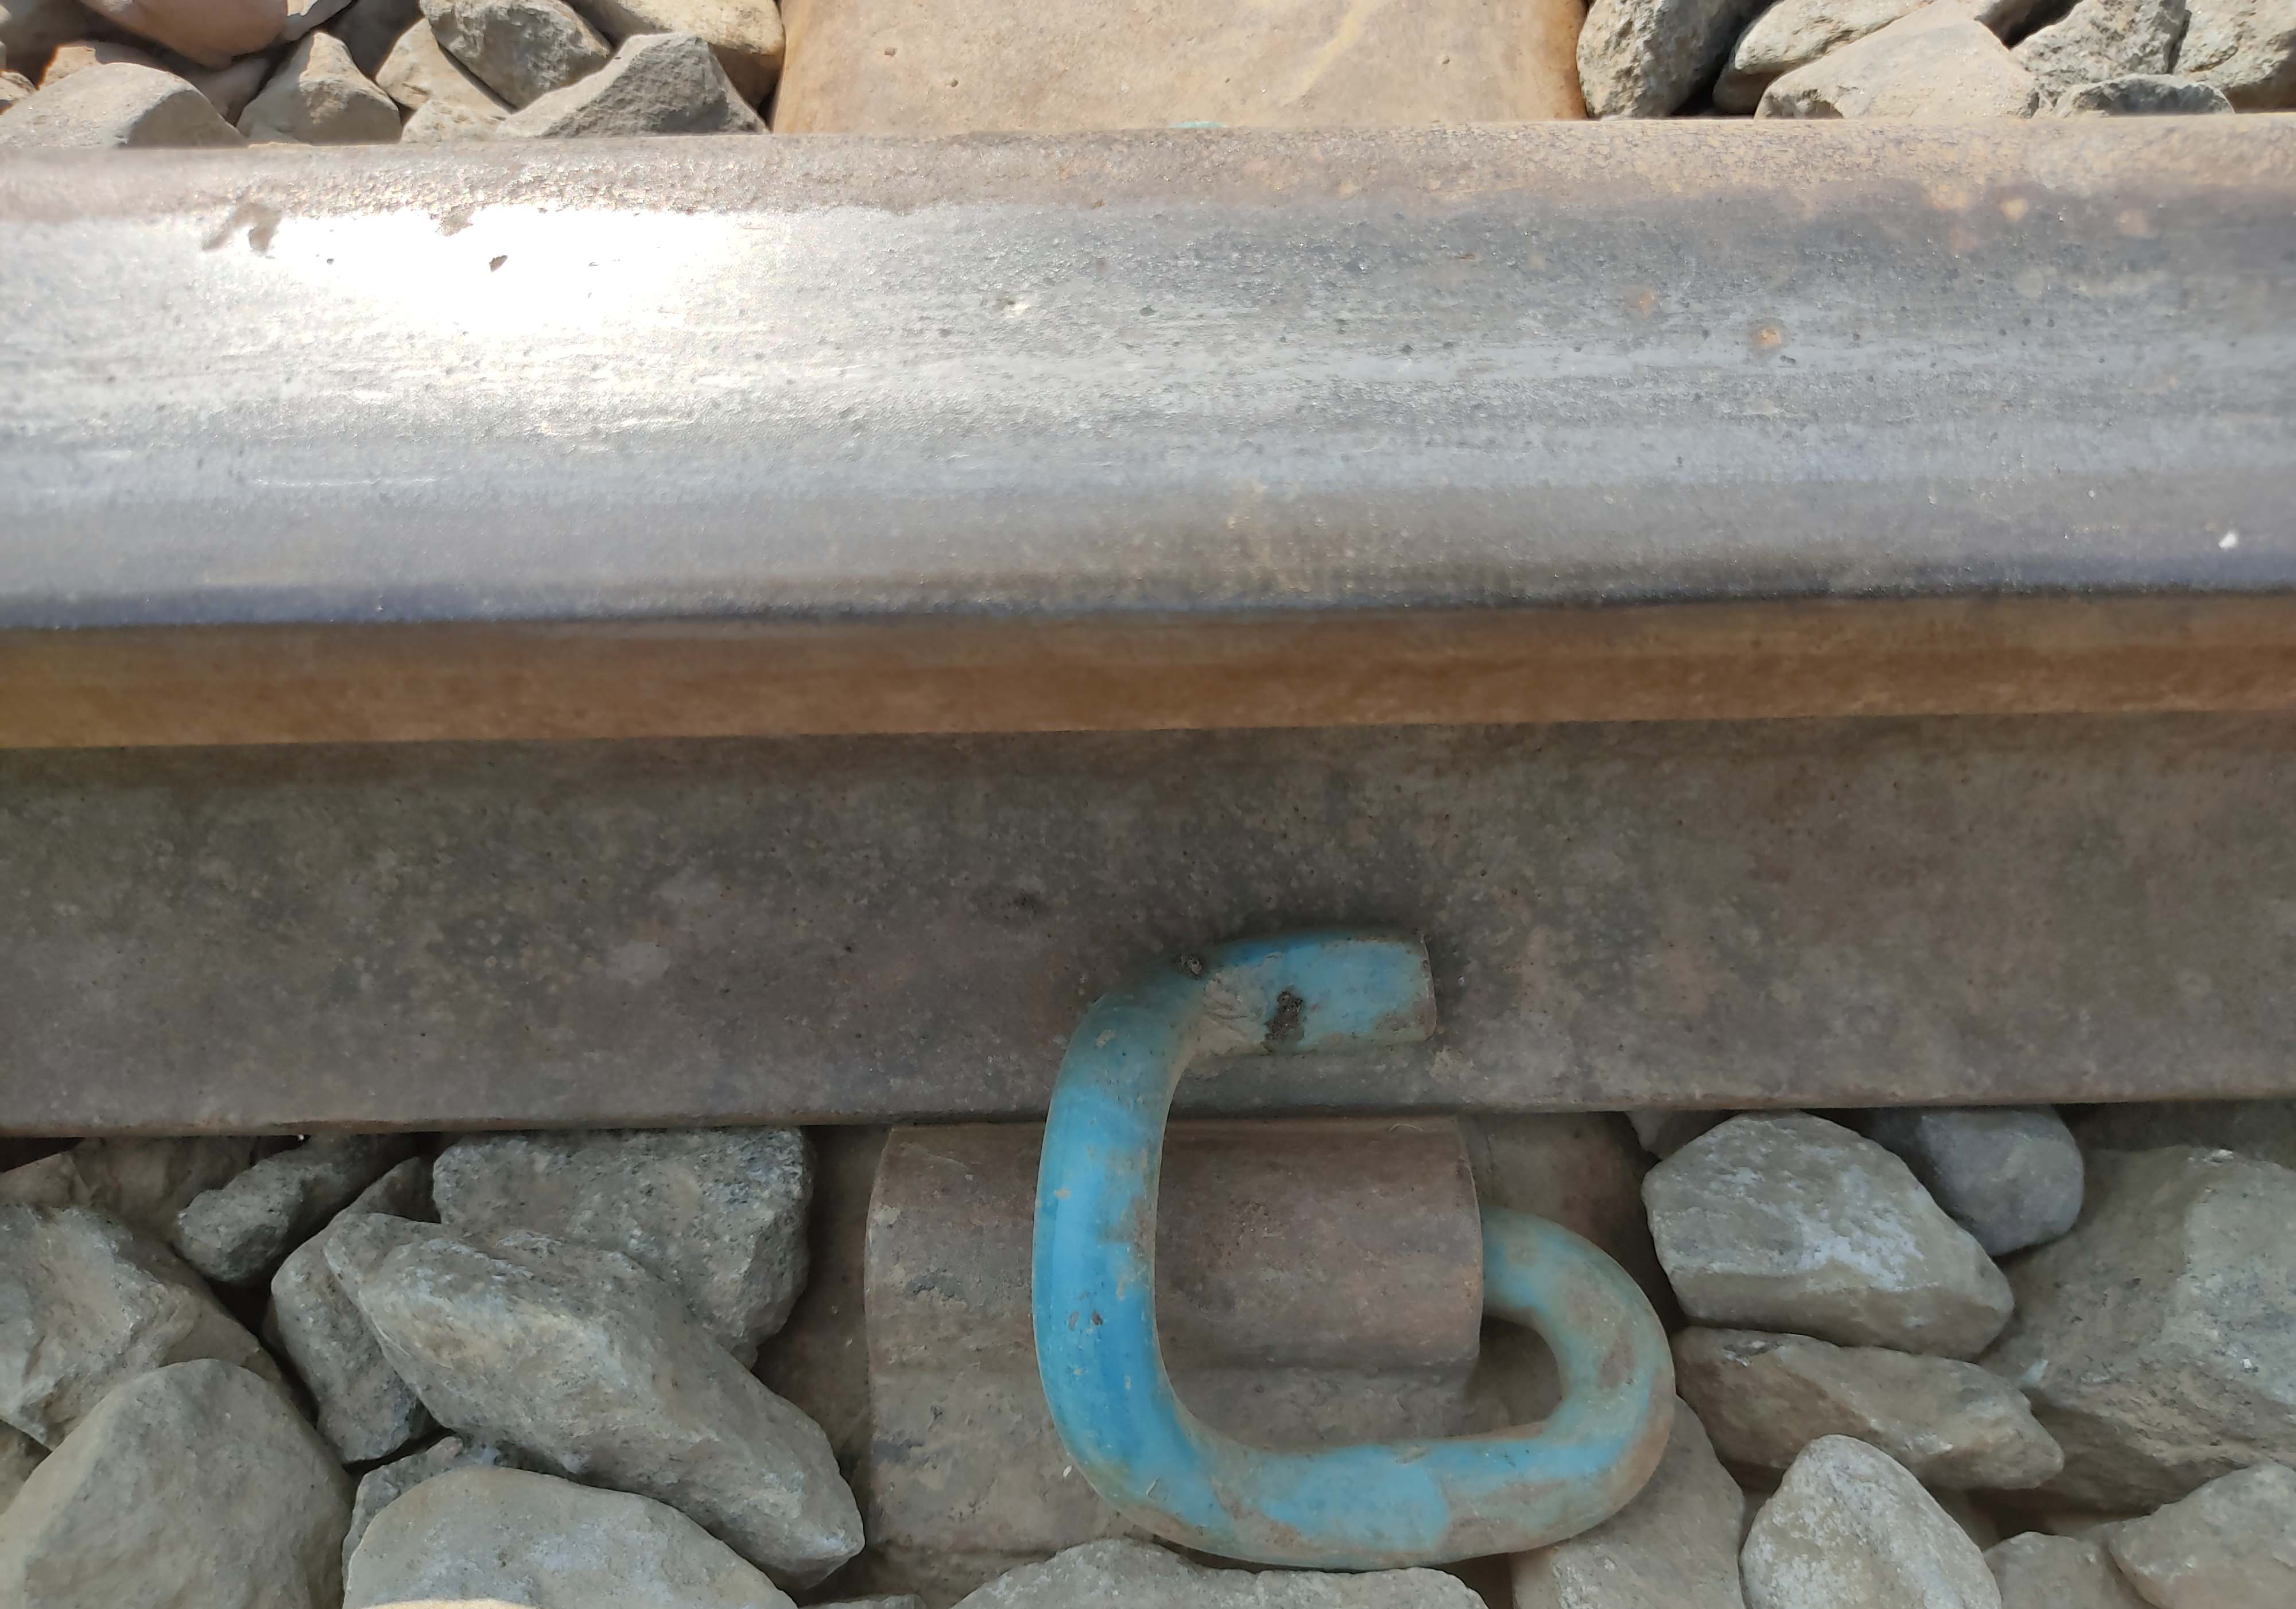error1: (823, 856, 1692, 1585)
